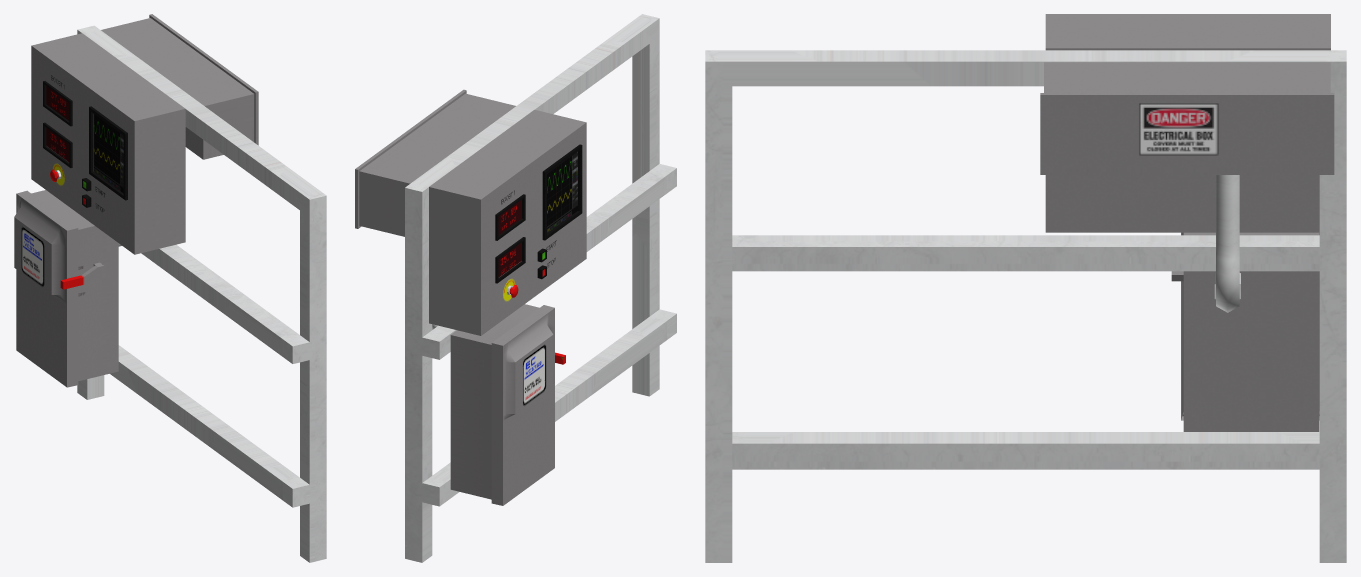
The model's file is controlpanelsingle.fbx.
3 views of the same model, side by side, from view 1: azimuth 30°, elevation 25°; view 2: azimuth 150°, elevation 25°; view 3: azimuth 270°, elevation 25° (orthographic). The views are drawn at different scales.
Visible parts, largest first — view 1: ControlPanelSingle; view 2: ControlPanelSingle; view 3: ControlPanelSingle.
Boxes of the visible parts, x1,y1,x2,y2 form: ControlPanelSingle: (14, 14, 326, 562); ControlPanelSingle: (355, 14, 676, 562); ControlPanelSingle: (705, 14, 1346, 562).
Bounding box in the file's own units: 0.868 × 2.05 × 2.36.
